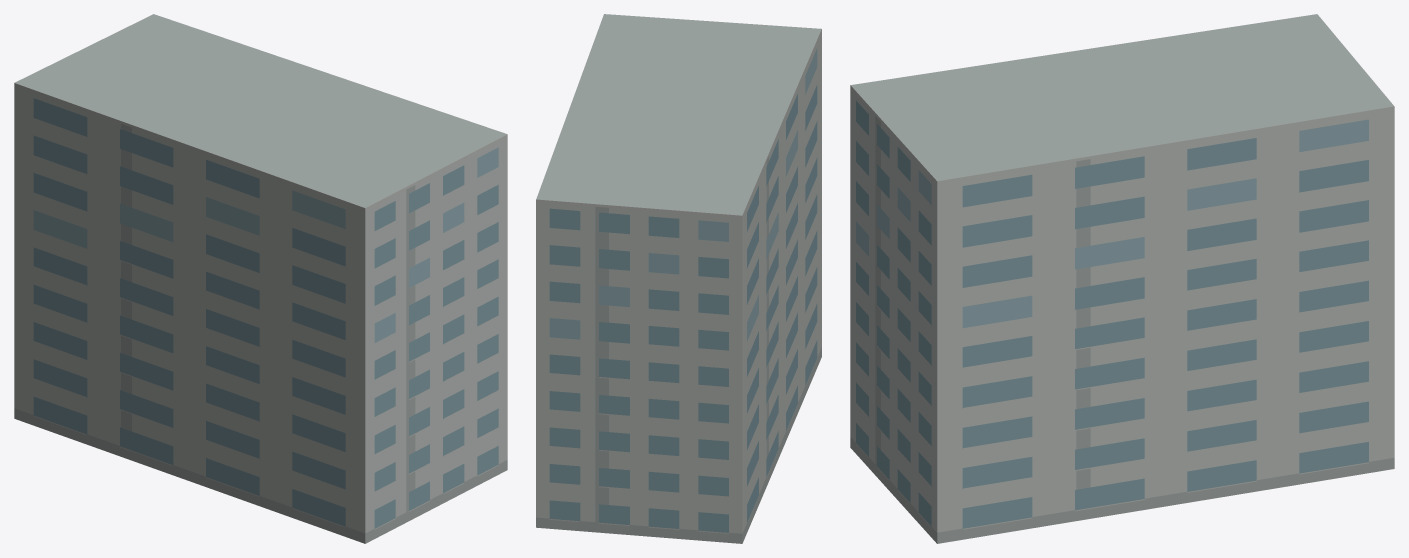
The model's file is residential-82565230-a105-48e0-8432-fcc6e13a518e.glb.
3 renders of one model, left to right at view 1: azimuth 30°, elevation 25°; view 2: azimuth 150°, elevation 25°; view 3: azimuth 270°, elevation 25°, orthographic. The views are drawn at different scales.
Visible parts, largest first — view 1: residential-82565230-a105-48e0-8432-fcc6e13a518e.tmp; view 2: residential-82565230-a105-48e0-8432-fcc6e13a518e.tmp; view 3: residential-82565230-a105-48e0-8432-fcc6e13a518e.tmp.
Part boxes in pixels (<box>): residential-82565230-a105-48e0-8432-fcc6e13a518e.tmp: <box>14,14,507,543</box>; residential-82565230-a105-48e0-8432-fcc6e13a518e.tmp: <box>536,14,821,543</box>; residential-82565230-a105-48e0-8432-fcc6e13a518e.tmp: <box>850,14,1394,543</box>.
Bounding box in the file's own units: 30.69 × 31 × 42.17.
